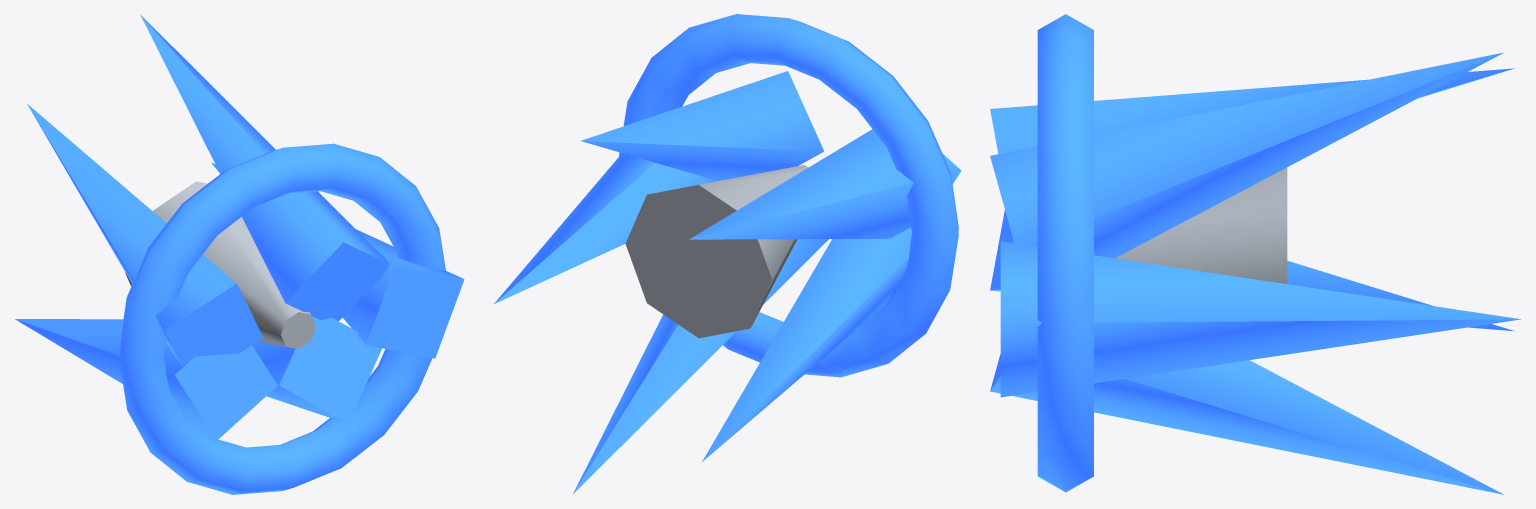
File: vfx_muzzle_lance.glb
3 renders of one model, left to right at view 1: azimuth 30°, elevation 25°; view 2: azimuth 150°, elevation 25°; view 3: azimuth 270°, elevation 25°, orthographic. The views are drawn at different scales.
Visible parts, largest first — view 1: vfx_muzzle_lance_ring, vfx_muzzle_lance_petal1, vfx_muzzle_lance_petal2, vfx_muzzle_lance_petal3, vfx_muzzle_lance_petal0, vfx_muzzle_lance_petal4, vfx_muzzle_lance_core; view 2: vfx_muzzle_lance_ring, vfx_muzzle_lance_core, vfx_muzzle_lance_petal1, vfx_muzzle_lance_petal2, vfx_muzzle_lance_petal3, vfx_muzzle_lance_petal0, vfx_muzzle_lance_petal4; view 3: vfx_muzzle_lance_petal0, vfx_muzzle_lance_petal1, vfx_muzzle_lance_ring, vfx_muzzle_lance_petal4, vfx_muzzle_lance_core, vfx_muzzle_lance_petal2, vfx_muzzle_lance_petal3.
Boxes of the visible parts, x1,y1,x2,y2 form: vfx_muzzle_lance_ring: [119, 143, 445, 494]; vfx_muzzle_lance_petal1: [140, 14, 389, 321]; vfx_muzzle_lance_petal2: [27, 104, 263, 365]; vfx_muzzle_lance_petal3: [15, 319, 277, 440]; vfx_muzzle_lance_petal0: [211, 162, 464, 358]; vfx_muzzle_lance_petal4: [252, 316, 381, 423]; vfx_muzzle_lance_core: [125, 181, 316, 348]; vfx_muzzle_lance_ring: [619, 14, 958, 377]; vfx_muzzle_lance_core: [625, 165, 808, 338]; vfx_muzzle_lance_petal1: [581, 71, 824, 180]; vfx_muzzle_lance_petal2: [689, 129, 961, 239]; vfx_muzzle_lance_petal3: [702, 227, 911, 461]; vfx_muzzle_lance_petal0: [494, 153, 717, 303]; vfx_muzzle_lance_petal4: [573, 239, 828, 493]; vfx_muzzle_lance_petal0: [1000, 241, 1520, 397]; vfx_muzzle_lance_petal1: [990, 52, 1503, 258]; vfx_muzzle_lance_ring: [1037, 14, 1093, 492]; vfx_muzzle_lance_petal4: [990, 354, 1503, 494]; vfx_muzzle_lance_core: [1115, 167, 1287, 283]; vfx_muzzle_lance_petal2: [990, 68, 1514, 153]; vfx_muzzle_lance_petal3: [990, 210, 1514, 331].
Bounding box in the file's own units: 0.37 × 0.3708 × 0.4082.
